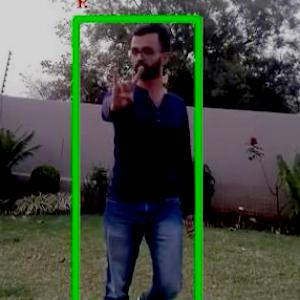takeoff-hand: (100, 62, 147, 114)
